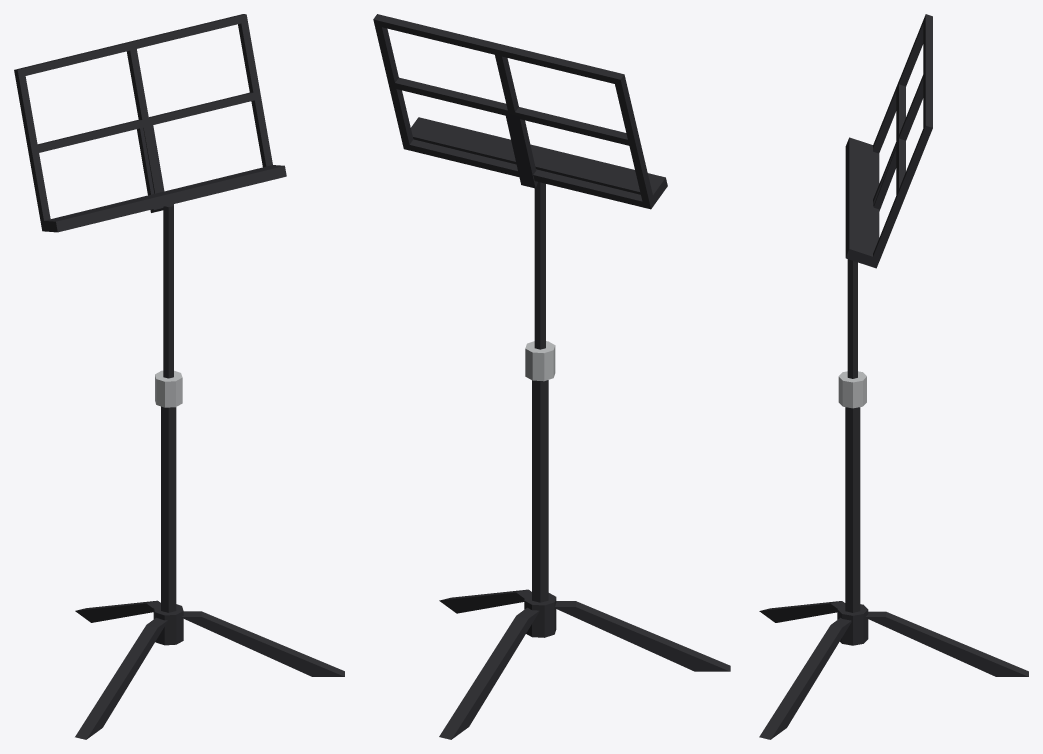
Rendered from FN_Stand_Music.glb.
The picture shows the model from 3 angles, left to right: view 1: azimuth 30°, elevation 25°; view 2: azimuth 150°, elevation 25°; view 3: azimuth 270°, elevation 25°; orthographic projection. The views are drawn at different scales.
Visible parts, largest first — view 1: FN_Stand_Music; view 2: FN_Stand_Music; view 3: FN_Stand_Music.
Part boxes in pixels (box(x1,y1,x2,y2)): FN_Stand_Music: box(14, 14, 344, 739); FN_Stand_Music: box(373, 14, 730, 739); FN_Stand_Music: box(759, 14, 1028, 739).
Size of the model in its own units: 0.5663 by 1.21 by 0.4904.
1 material, 1 textured.
